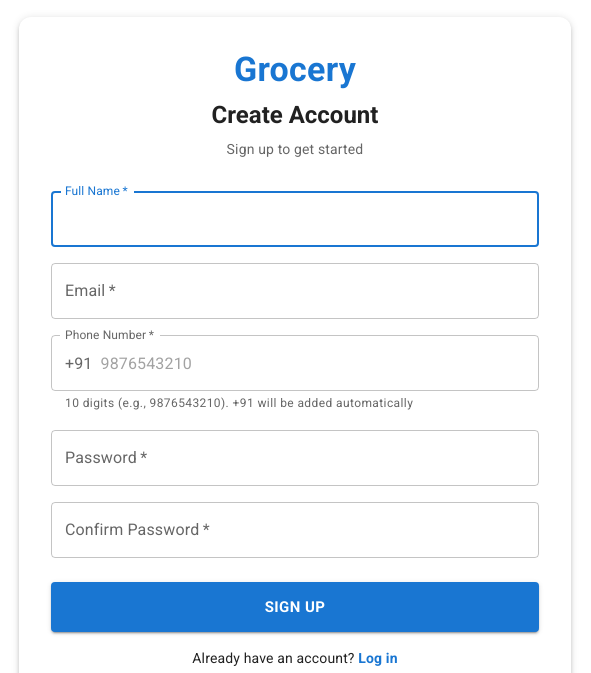
Test case: SignupPage Component › Name Validation › shows error when name contains numbers
Step 1. Type "John123" into the field labelled "Full Name *" → (295, 219), box [51,191,539,247]
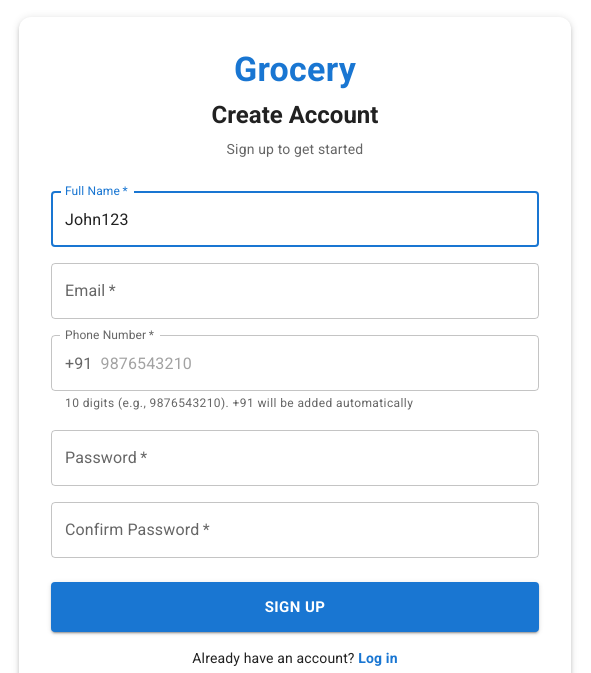
Step 2. Leave the field labelled "Full Name *", box [51,191,539,247]
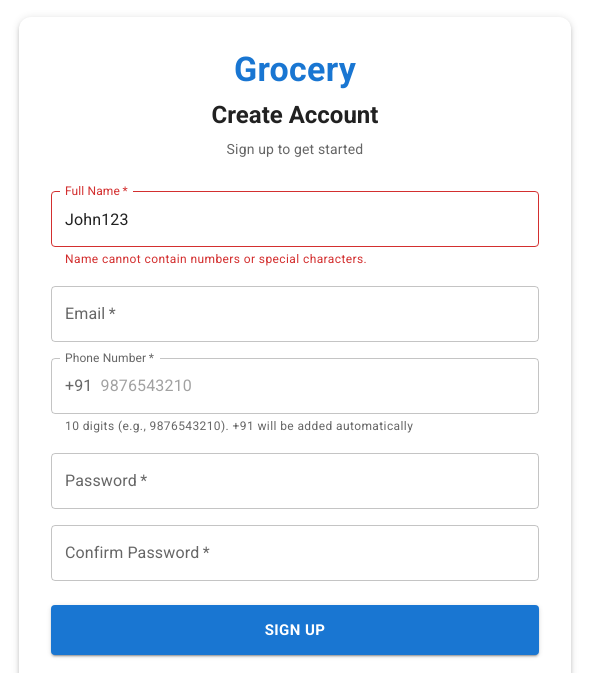
Check: the text "Name cannot contain numbers or special characters." is shown, box [65,252,367,266]
